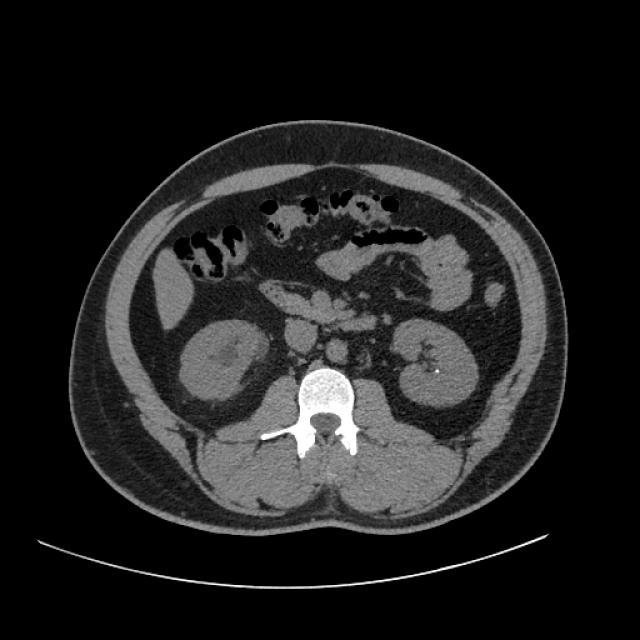kidneystone: (434, 369, 440, 381)
